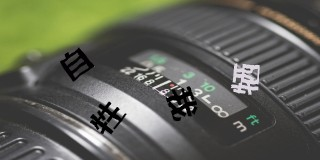我: (165, 84, 199, 121)
牲: (88, 101, 127, 135)
牺: (230, 60, 262, 96)
自: (61, 48, 95, 81)
